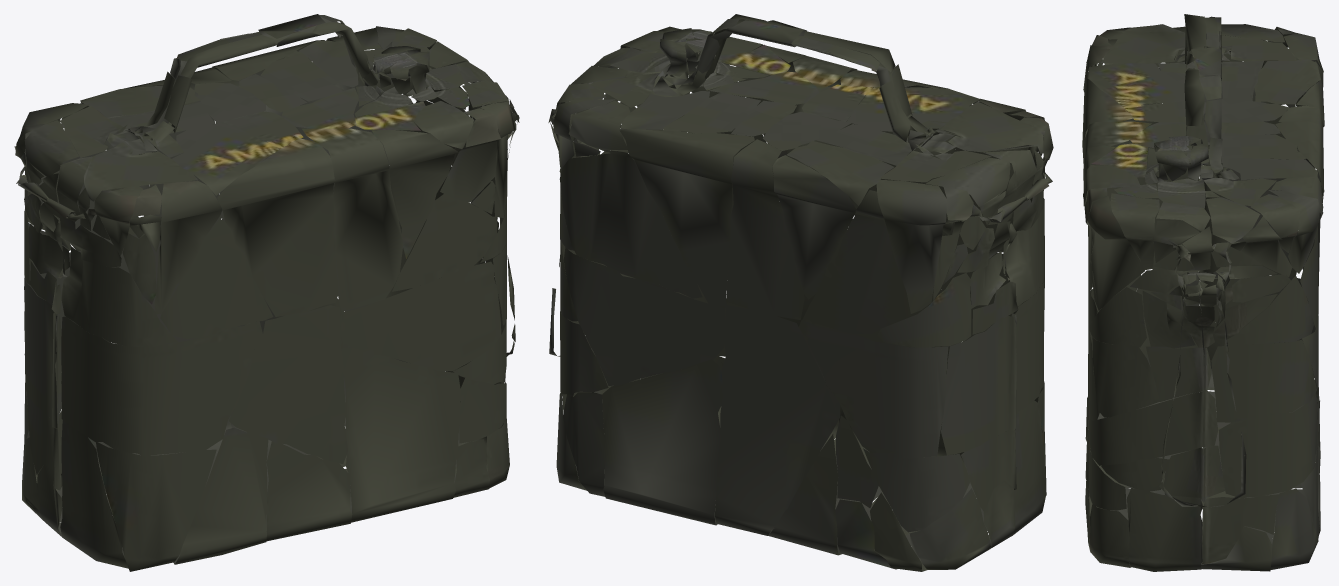
Rendered from ammo.glb.
3 views of the same model, side by side, from view 1: azimuth 30°, elevation 25°; view 2: azimuth 150°, elevation 25°; view 3: azimuth 270°, elevation 25° (orthographic). The views are drawn at different scales.
Parts seen in each view (by area): view 1: Mesh_0; view 2: Mesh_0; view 3: Mesh_0.
Part boxes in pixels (<box>): Mesh_0: <box>14,14,519,571</box>; Mesh_0: <box>548,14,1053,571</box>; Mesh_0: <box>1082,14,1324,571</box>.
Bounding box in the file's own units: 1.89 × 1.73 × 0.8833.
Materials: 1 (1 with a texture image).
